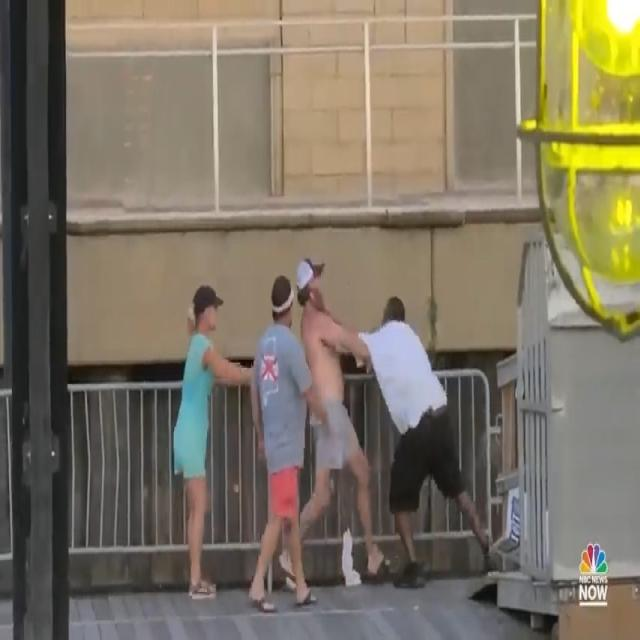fight: (296, 239, 500, 592)
non-fight: (168, 262, 324, 616)
